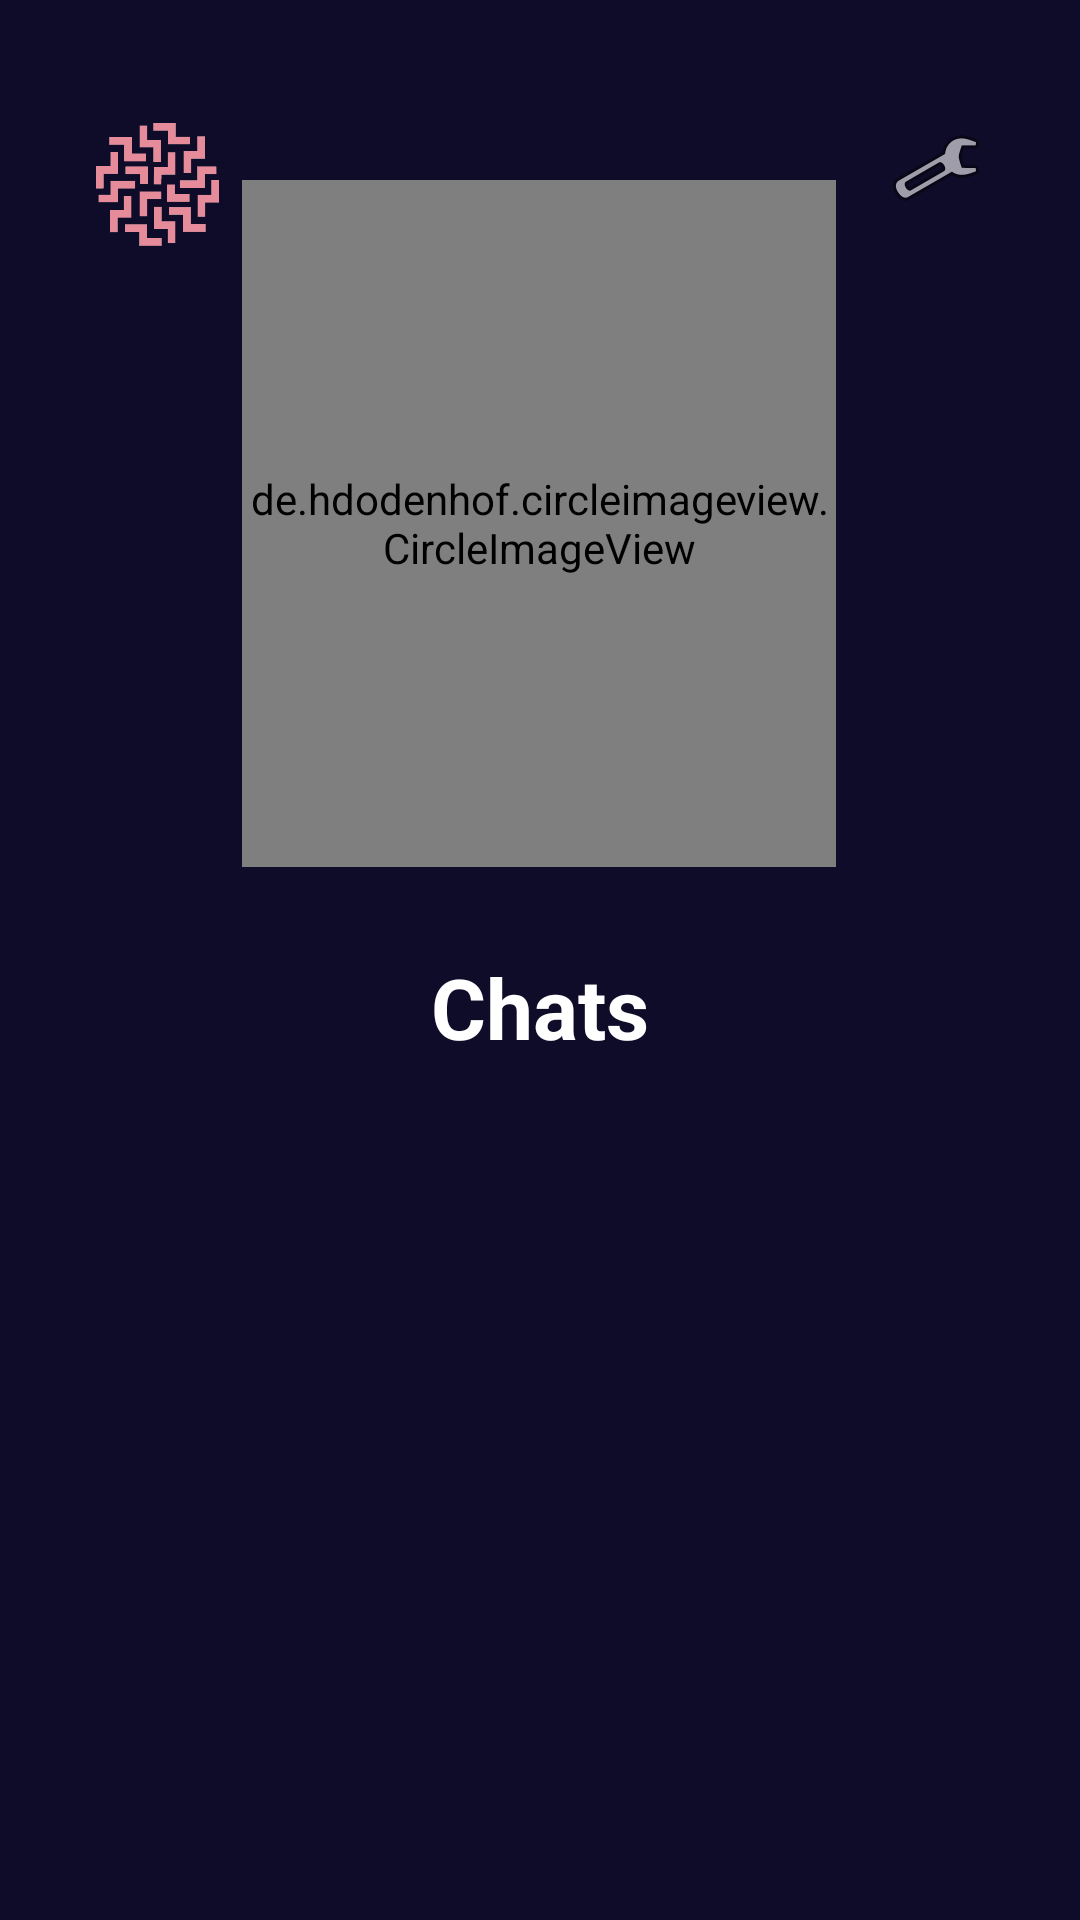

Point at icon controls on the screen. Image size 1080px x 1920px, points as [x,y].
Settings: [936,168]
